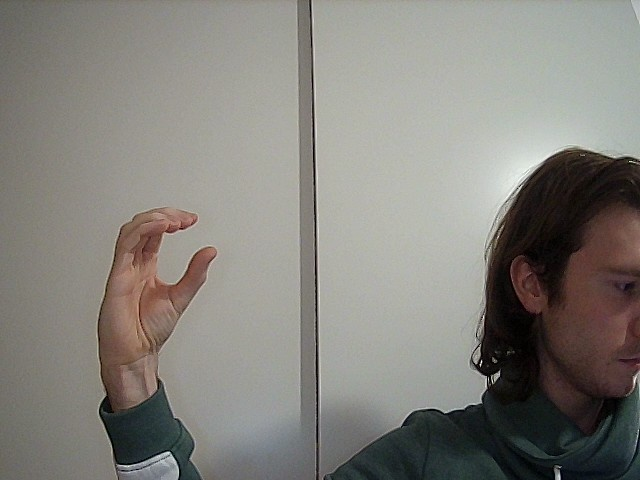c: (73, 197, 228, 369)
